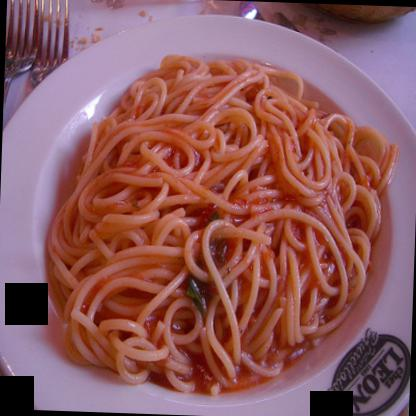pasta: (43, 49, 388, 404)
